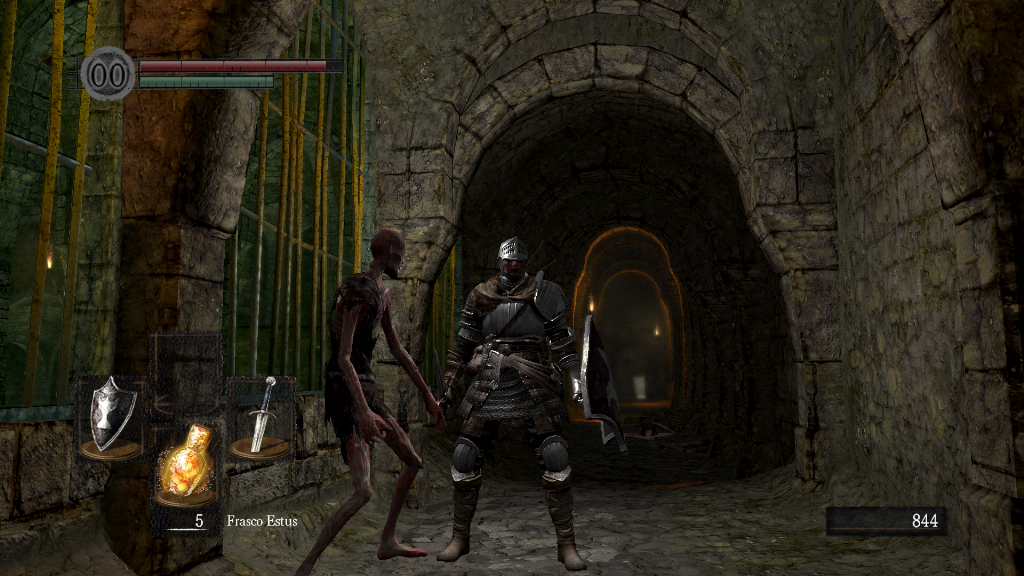health: (138, 58, 343, 71)
hollow: (295, 228, 445, 576)
humanity: (80, 45, 136, 102)
player: (435, 236, 630, 572)
souls: (825, 506, 945, 536)
stamina: (138, 74, 274, 88)
